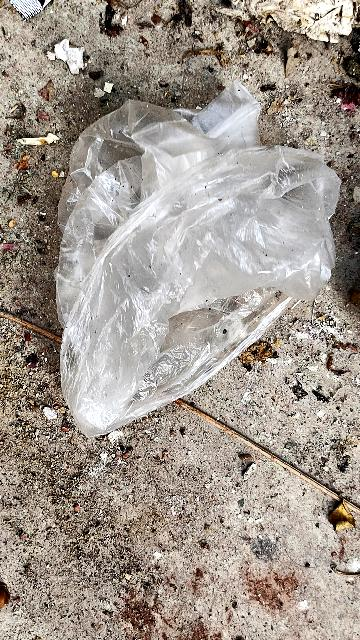polythene: (0, 49, 352, 433)
